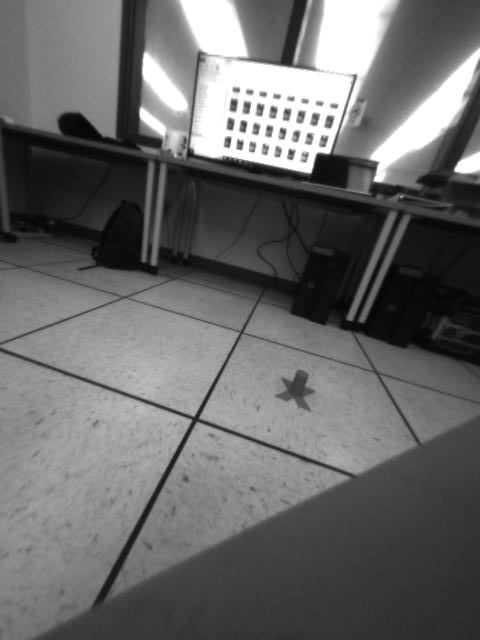X: (273, 369, 315, 414)
